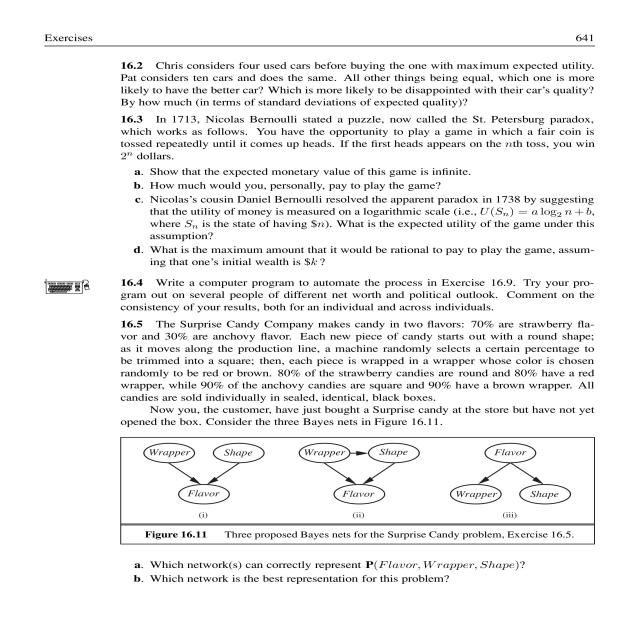diagram: (118, 436, 604, 549)
